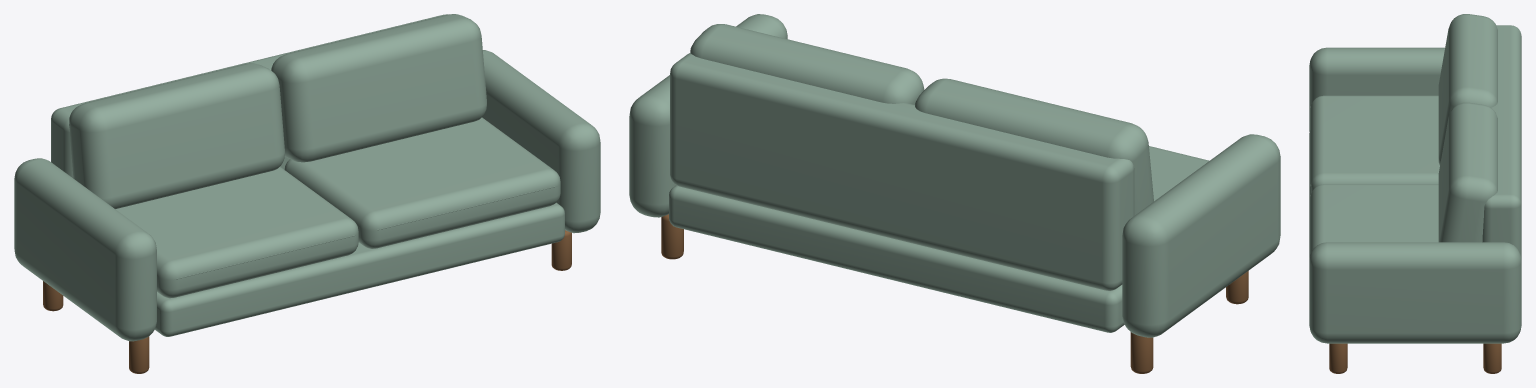
File: gullvalla.glb
3 views of the same model, side by side, from view 1: azimuth 30°, elevation 25°; view 2: azimuth 150°, elevation 25°; view 3: azimuth 270°, elevation 25° (orthographic). The views are drawn at different scales.
Parts seen in each view (by area): view 1: Back cushion 1, Back cushion 2, Seat cushion 2, Seat cushion 1, Arm, Upholstered base, Arm.001, Back structure, Wood foot, Wood foot.002; view 2: Back structure, Arm, Upholstered base, Back cushion 1, Back cushion 2, Arm.001, Seat cushion 1, Wood foot.001, Wood foot.003, Wood foot; view 3: Arm.001, Seat cushion 1, Seat cushion 2, Back cushion 2, Arm, Back structure, Back cushion 1, Wood foot.002, Wood foot.003, Upholstered base.
Part boxes in pixels (bbox=[...]): Back cushion 1: bbox=[69, 63, 284, 208]; Back cushion 2: bbox=[271, 14, 486, 162]; Seat cushion 2: bbox=[284, 117, 560, 248]; Seat cushion 1: bbox=[115, 167, 358, 298]; Arm: bbox=[14, 158, 156, 341]; Upholstered base: bbox=[155, 202, 564, 336]; Arm.001: bbox=[482, 50, 600, 233]; Back structure: bbox=[51, 14, 447, 177]; Wood foot: bbox=[129, 336, 149, 373]; Wood foot.002: bbox=[551, 230, 571, 270]; Back structure: bbox=[670, 53, 1134, 290]; Arm: bbox=[1122, 134, 1280, 337]; Upholstered base: bbox=[669, 185, 1124, 332]; Back cushion 1: bbox=[915, 78, 1153, 215]; Back cushion 2: bbox=[690, 24, 924, 104]; Arm.001: bbox=[629, 14, 787, 217]; Seat cushion 1: bbox=[1149, 146, 1209, 201]; Wood foot.001: bbox=[1130, 332, 1153, 373]; Wood foot.003: bbox=[661, 214, 683, 259]; Wood foot: bbox=[1226, 271, 1248, 304]; Arm.001: bbox=[1309, 242, 1521, 343]; Seat cushion 1: bbox=[1310, 95, 1439, 194]; Seat cushion 2: bbox=[1310, 184, 1438, 253]; Back cushion 2: bbox=[1438, 102, 1497, 242]; Arm: bbox=[1309, 47, 1444, 131]; Back structure: bbox=[1482, 25, 1521, 259]; Back cushion 1: bbox=[1438, 14, 1497, 164]; Wood foot.002: bbox=[1329, 343, 1347, 373]; Wood foot.003: bbox=[1483, 343, 1501, 373]; Upholstered base: bbox=[1309, 130, 1310, 259].
Bounding box in the file's own units: 2.08 × 0.8372 × 0.88.
